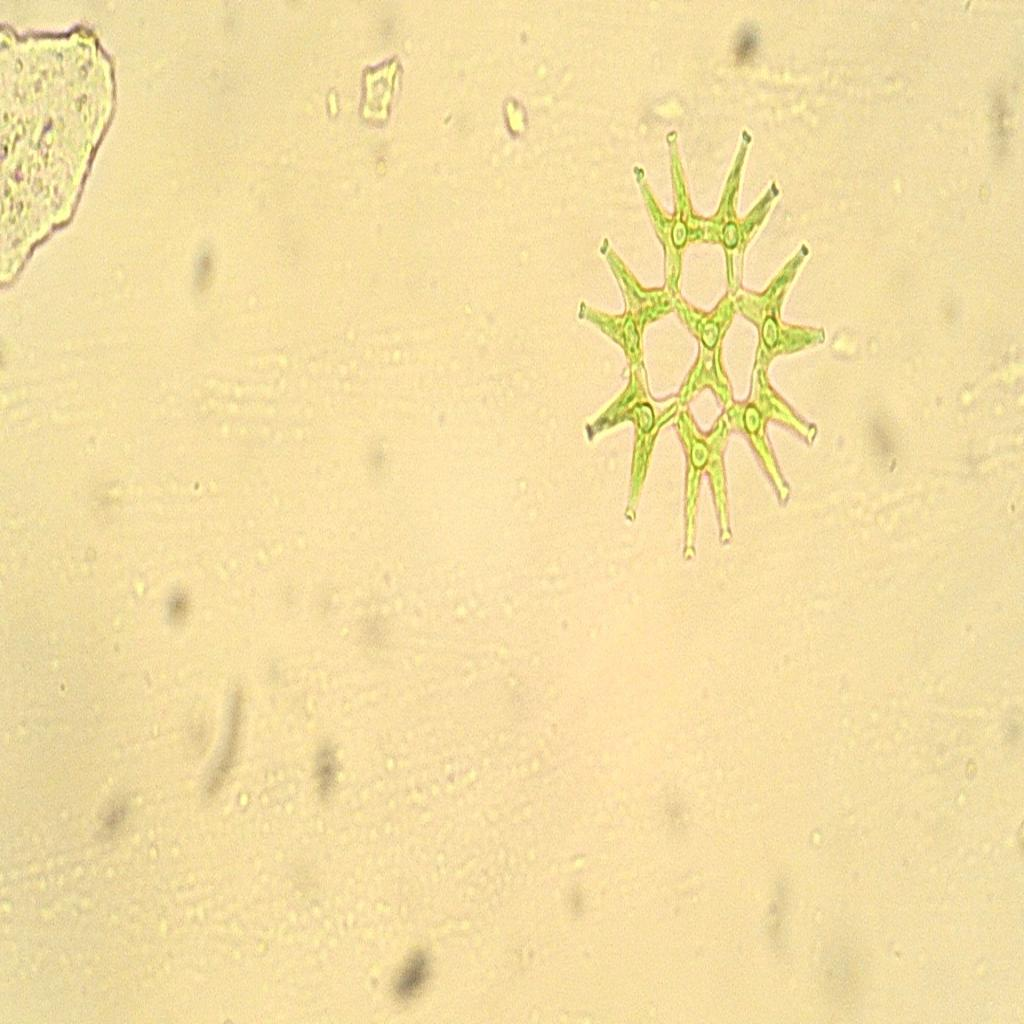Pediastrum_CTH: (561, 108, 844, 568)
